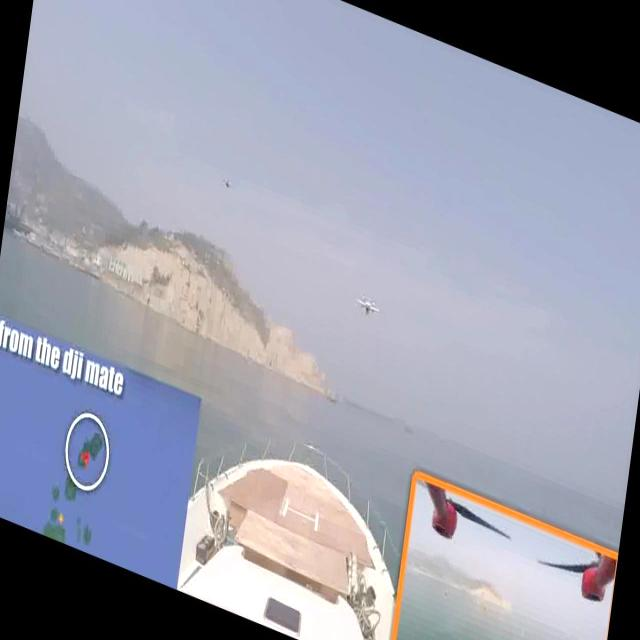drone: (352, 284, 386, 326), (222, 174, 234, 193)
